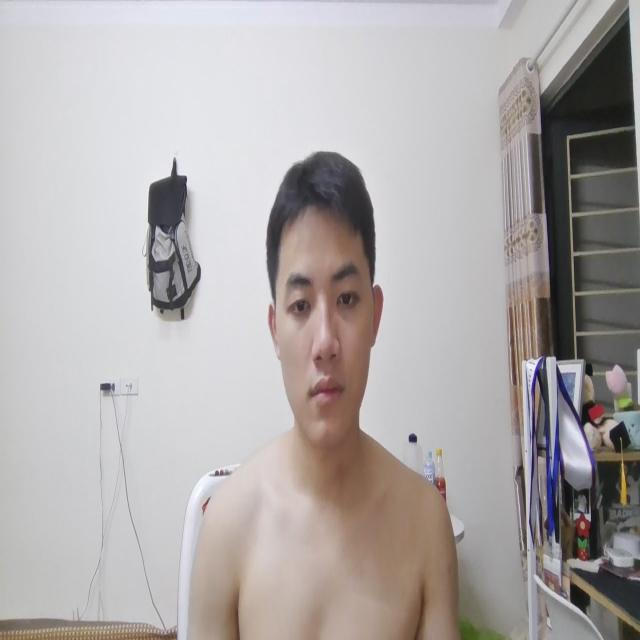student: (192, 152, 458, 640)
